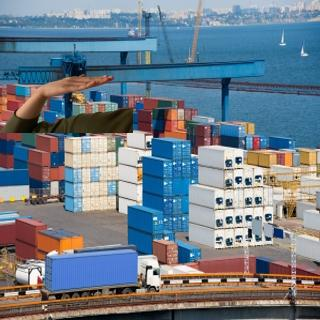WAIT: (36, 70, 116, 99)
